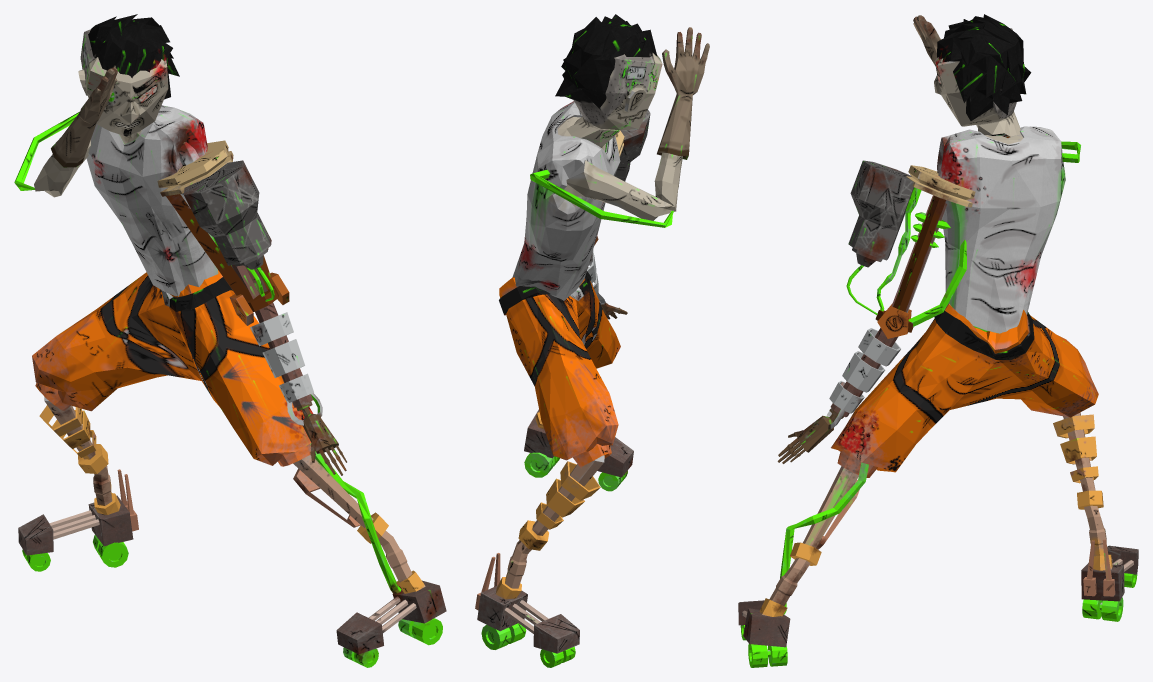
File: CyborgFINALAnimation_000044.obj
3 renders of one model, left to right at view 1: azimuth 30°, elevation 25°; view 2: azimuth 150°, elevation 25°; view 3: azimuth 270°, elevation 25°, orthographic. The views are drawn at different scales.
Parts seen in each view (by area): view 1: CyborgMesh_Cube.002; view 2: CyborgMesh_Cube.002; view 3: CyborgMesh_Cube.002.
Part boxes in pixels (x1,y1,x2,y2): CyborgMesh_Cube.002: [14, 14, 446, 667]; CyborgMesh_Cube.002: [475, 14, 709, 667]; CyborgMesh_Cube.002: [738, 14, 1138, 667].
Bounding box in the file's own units: 4.24 × 8.64 × 5.44.
